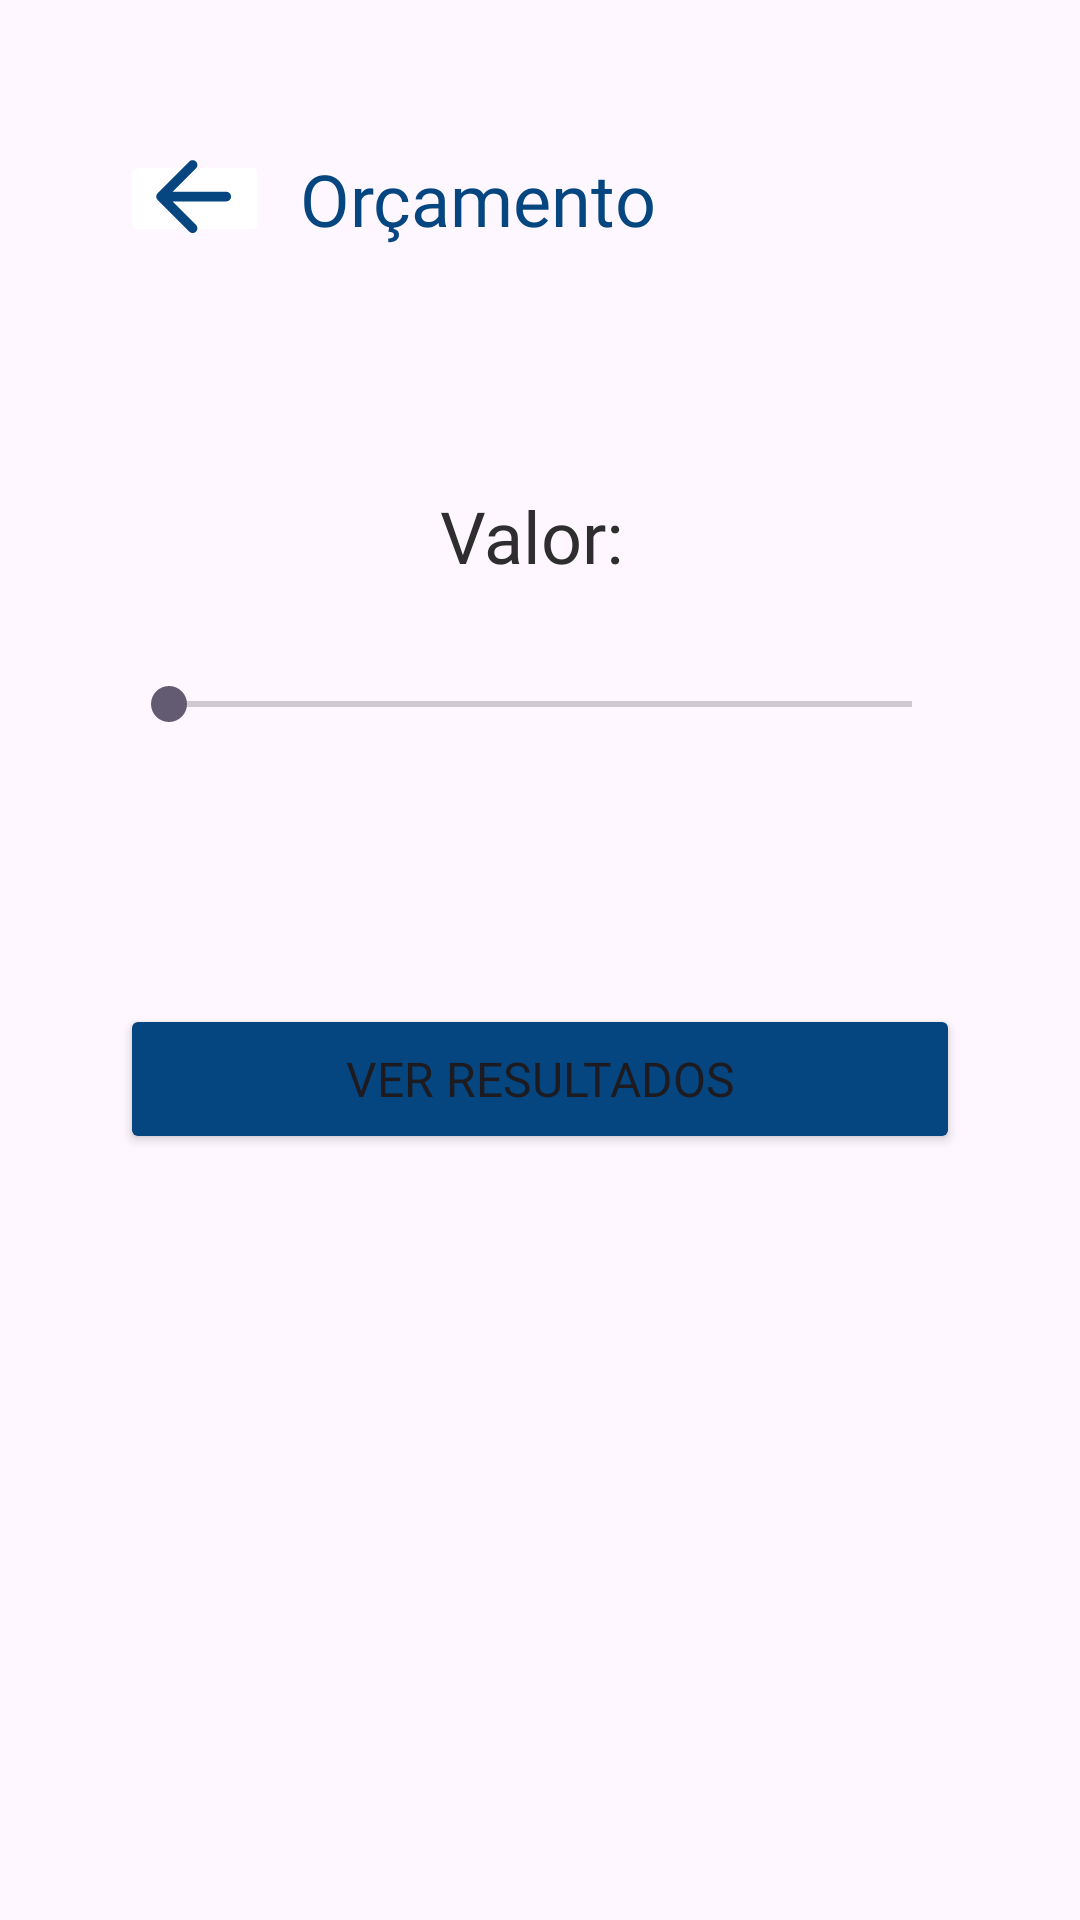

Icon bounding boxes for this 1080 x 1920 phone screenshot, format BBox(x1, y1, x2, y2):
arrow back: BBox(156, 160, 231, 233)
